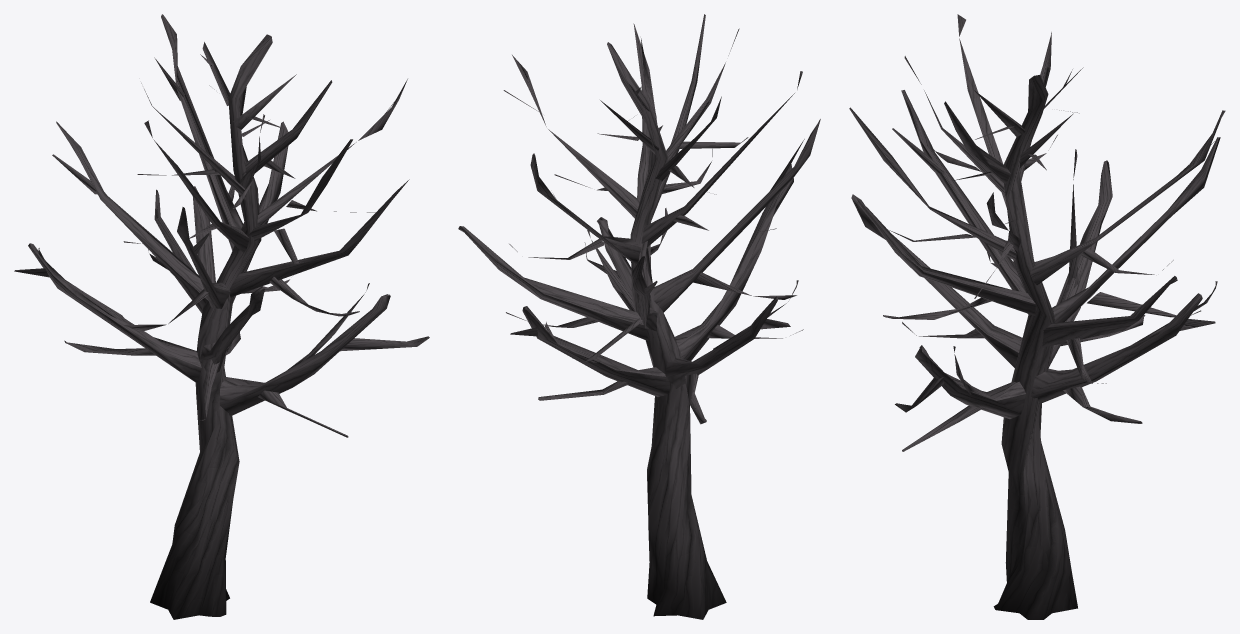
The model's file is DeadTree_1_far.gltf.
The picture shows the model from 3 angles, left to right: view 1: azimuth 30°, elevation 25°; view 2: azimuth 150°, elevation 25°; view 3: azimuth 270°, elevation 25°; orthographic projection. The views are drawn at different scales.
Parts seen in each view (by area): view 1: DeadTree_1; view 2: DeadTree_1; view 3: DeadTree_1.
Part boxes in pixels (x1,y1,x2,y2): DeadTree_1: (14,14,429,619); DeadTree_1: (458,14,820,619); DeadTree_1: (849,14,1225,619).
Bounding box in the file's own units: 6.12 × 9.49 × 5.72.
Materials: 1 (1 with a texture image).
